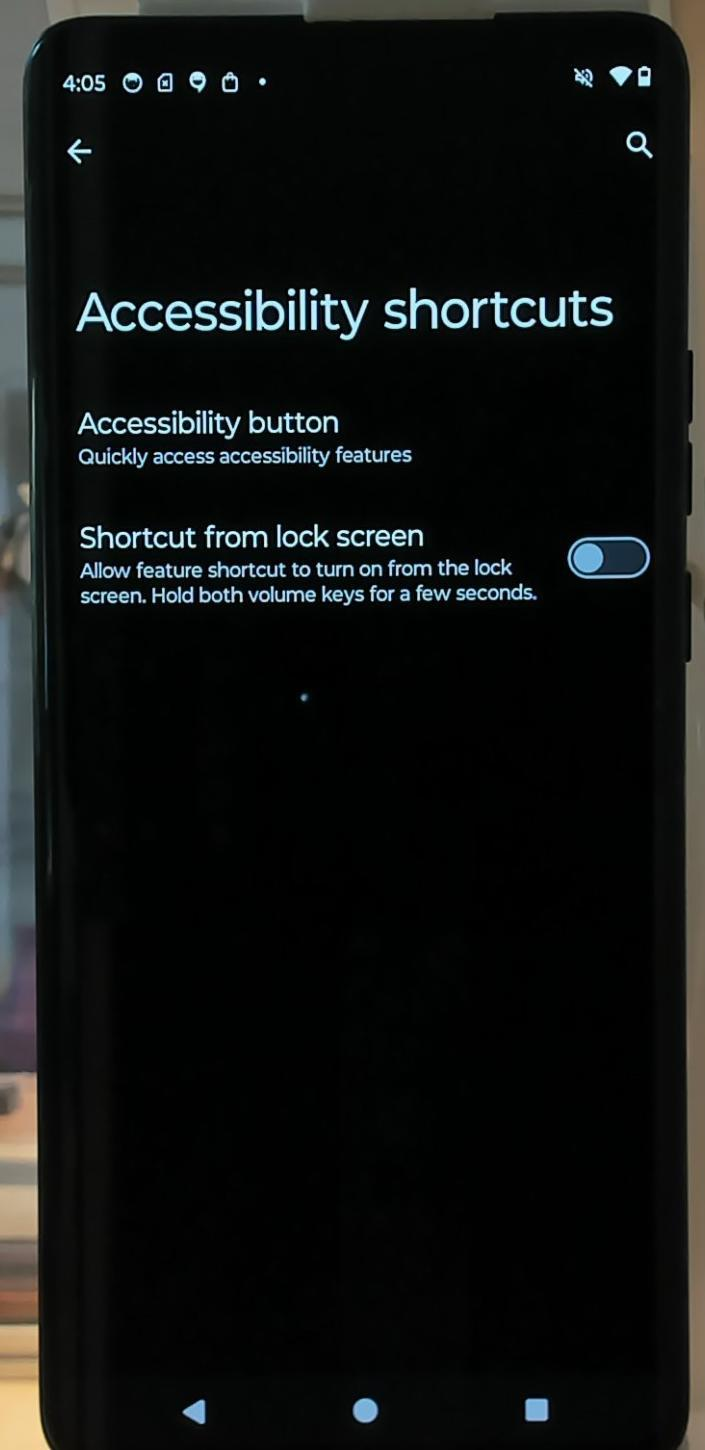Checkbox: (65, 498, 654, 626)
